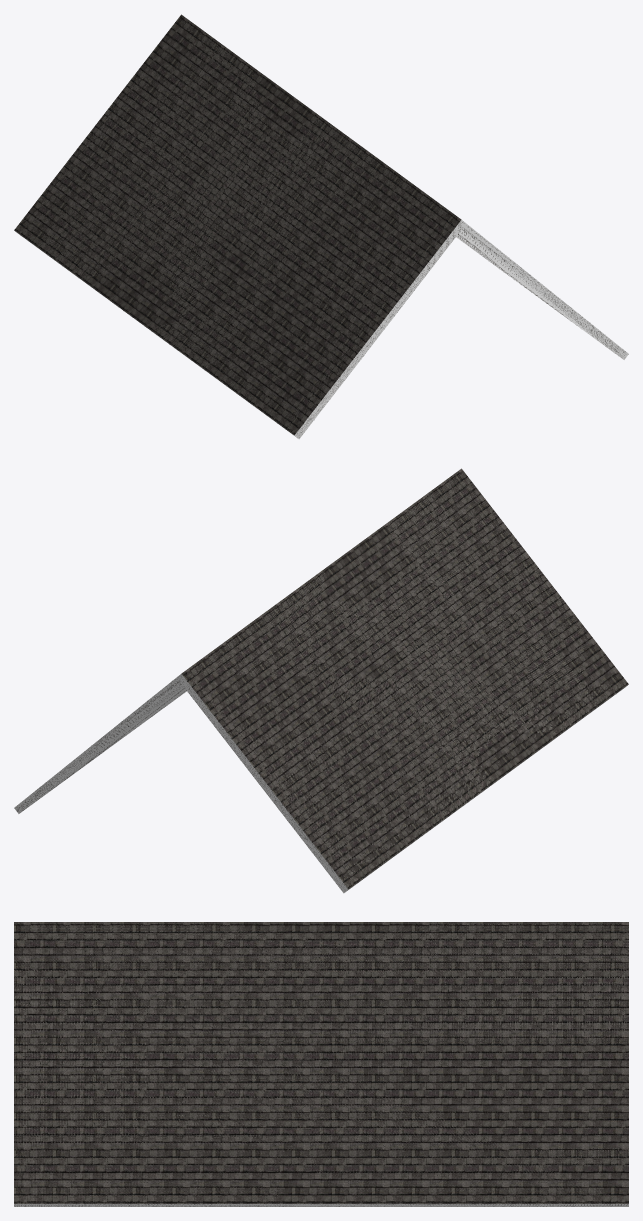
File: Finishes RoofDone.dae
3 views of the same model, one above another, from view 1: azimuth 30°, elevation 25°; view 2: azimuth 150°, elevation 25°; view 3: azimuth 270°, elevation 25° (orthographic). The views are drawn at different scales.
Visible parts, largest first — view 1: group_2 (×2), group_1; view 2: group_2 (×2), group_1; view 3: group_1 (×2).
Boxes of the visible parts, left/top/right/bottom form: group_2 (×2): left=14, top=14, right=461, bottom=439; group_1: left=456, top=220, right=628, bottom=359; group_2 (×2): left=181, top=468, right=628, bottom=893; group_1: left=14, top=674, right=186, bottom=813; group_1 (×2): left=14, top=922, right=628, bottom=1206.
Bounding box in the file's own units: 383 × 555 × 197.
Materials: 3 (2 with a texture image).
